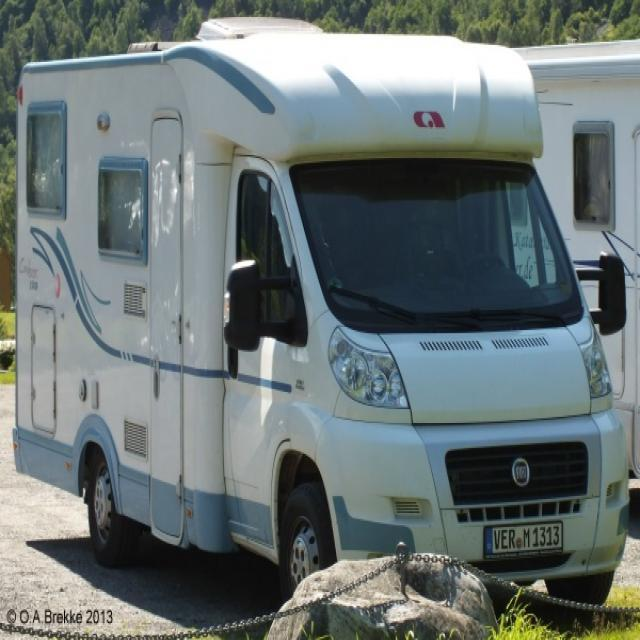License_Plate: (484, 524, 564, 556)
